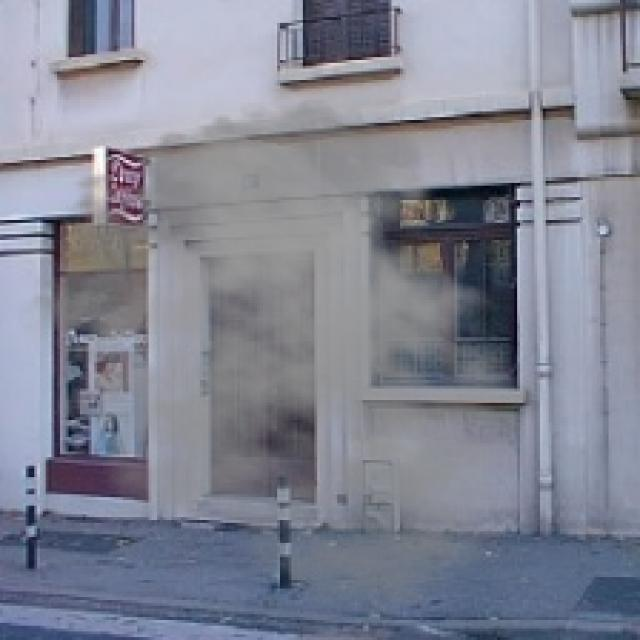Smoke: (11, 91, 568, 614)
